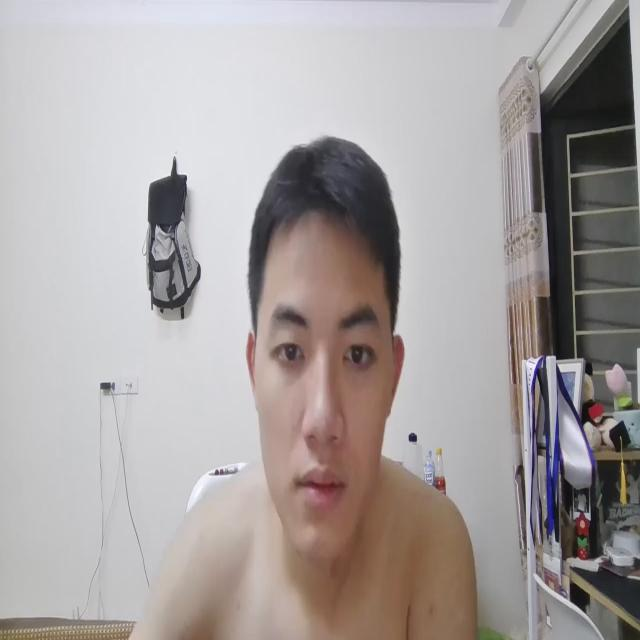student: (149, 132, 481, 640)
